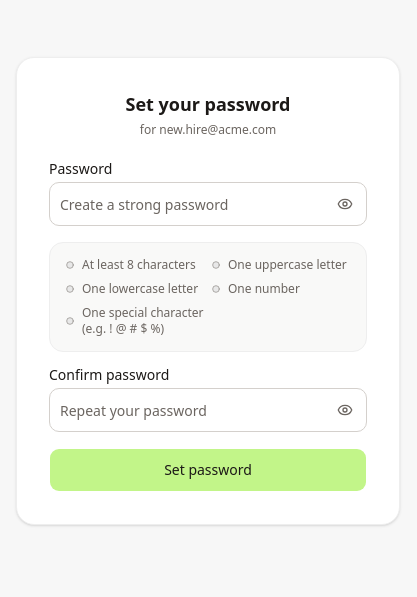
it: SetPasswordPage password validation › rejects a password that is no number
Type "Abcdefgh!" into the password field labelled "Password" at (208, 204), box [49,182,367,226]
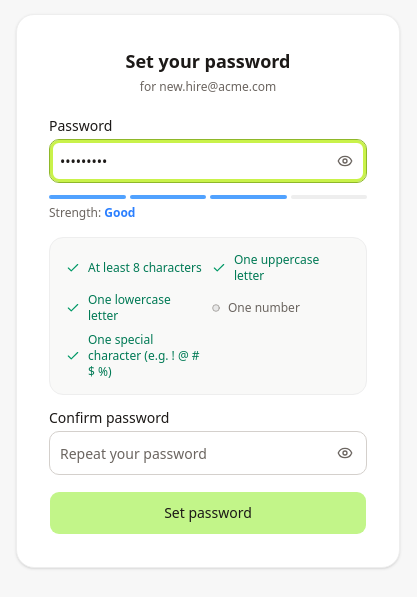
Type "Abcdefgh!" into the password field labelled "Confirm password" at (208, 453), box [49,431,367,475]
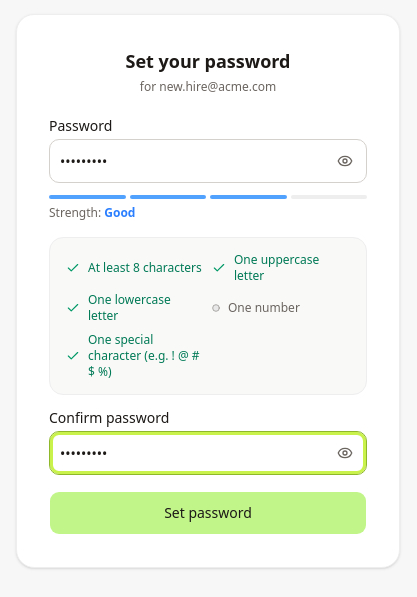
Click the button "Set password" at (208, 513), box [49,491,367,535]
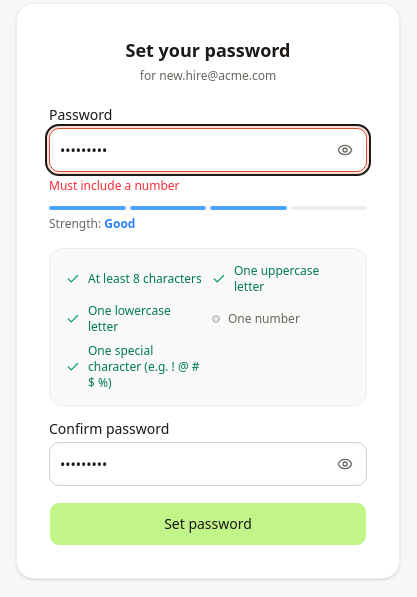
Check: the text "Must include a number" is shown, box [49,177,180,194]
